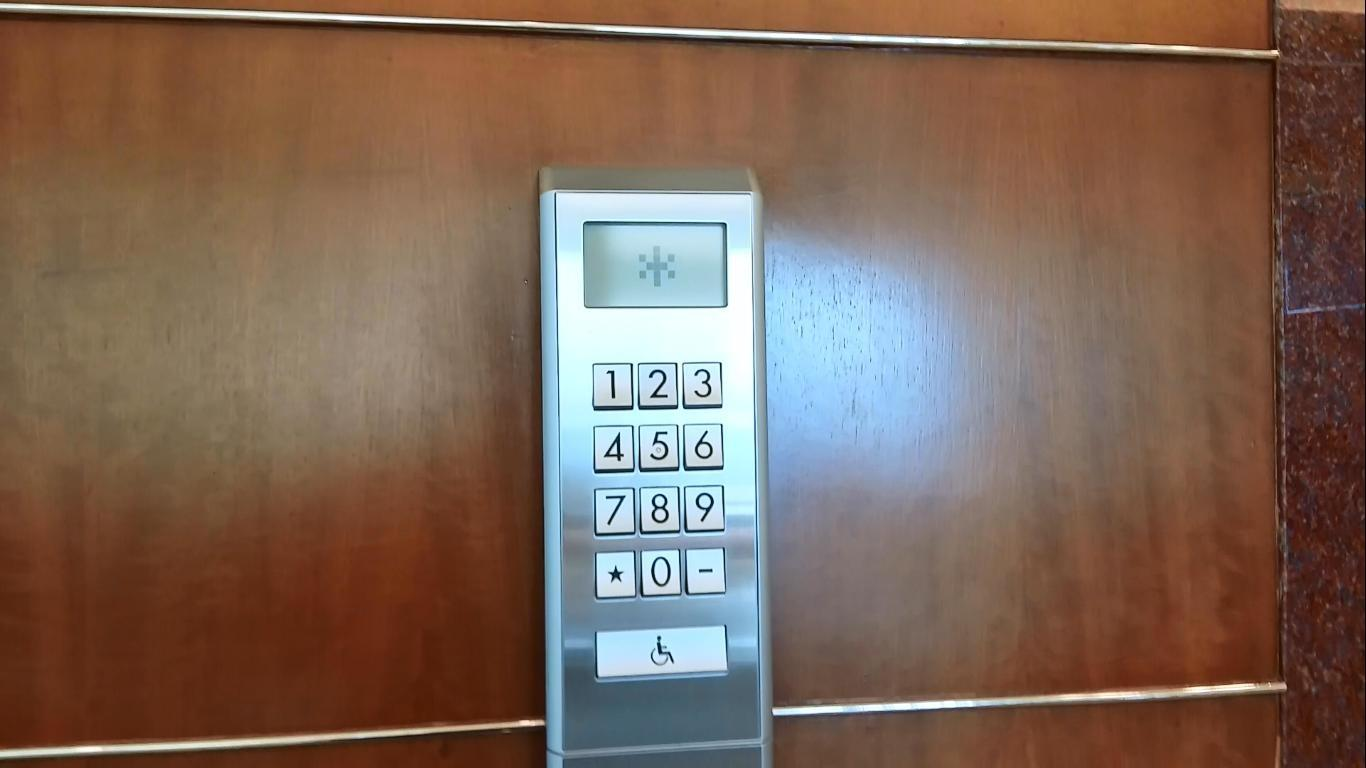0: (636, 544, 682, 598)
1: (589, 359, 633, 411)
2: (634, 359, 678, 411)
3: (679, 358, 723, 410)
4: (679, 419, 725, 473)
5: (633, 421, 679, 475)
6: (589, 421, 635, 475)
7: (591, 483, 637, 537)
8: (634, 483, 680, 537)
9: (680, 480, 726, 534)
led: (579, 217, 729, 310)
unknown: (590, 620, 730, 684), (590, 547, 636, 601), (681, 544, 727, 598)
